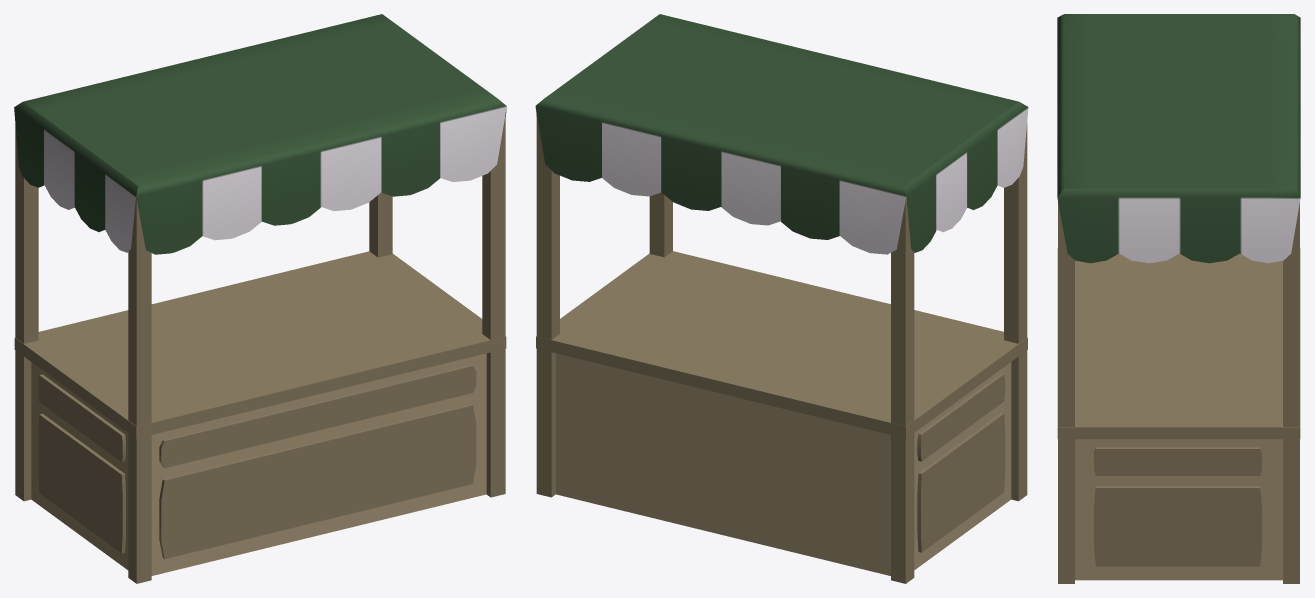
Rendered from BakerStall.fbx.
The picture shows the model from 3 angles, left to right: view 1: azimuth 30°, elevation 25°; view 2: azimuth 150°, elevation 25°; view 3: azimuth 270°, elevation 25°; orthographic projection.
Parts seen in each view (by area): view 1: BakerStall, BakerStall_Top; view 2: BakerStall, BakerStall_Top; view 3: BakerStall, BakerStall_Top.
Part boxes in pixels (x1,y1,x2,y2): BakerStall: (14, 114, 506, 583); BakerStall_Top: (14, 14, 506, 254); BakerStall: (536, 114, 1027, 583); BakerStall_Top: (535, 14, 1028, 254); BakerStall: (1057, 202, 1300, 583); BakerStall_Top: (1057, 14, 1300, 263).
Size of the model in its own units: 37.5 by 38.1 by 21.37.
Materials: 3 (1 with a texture image).
